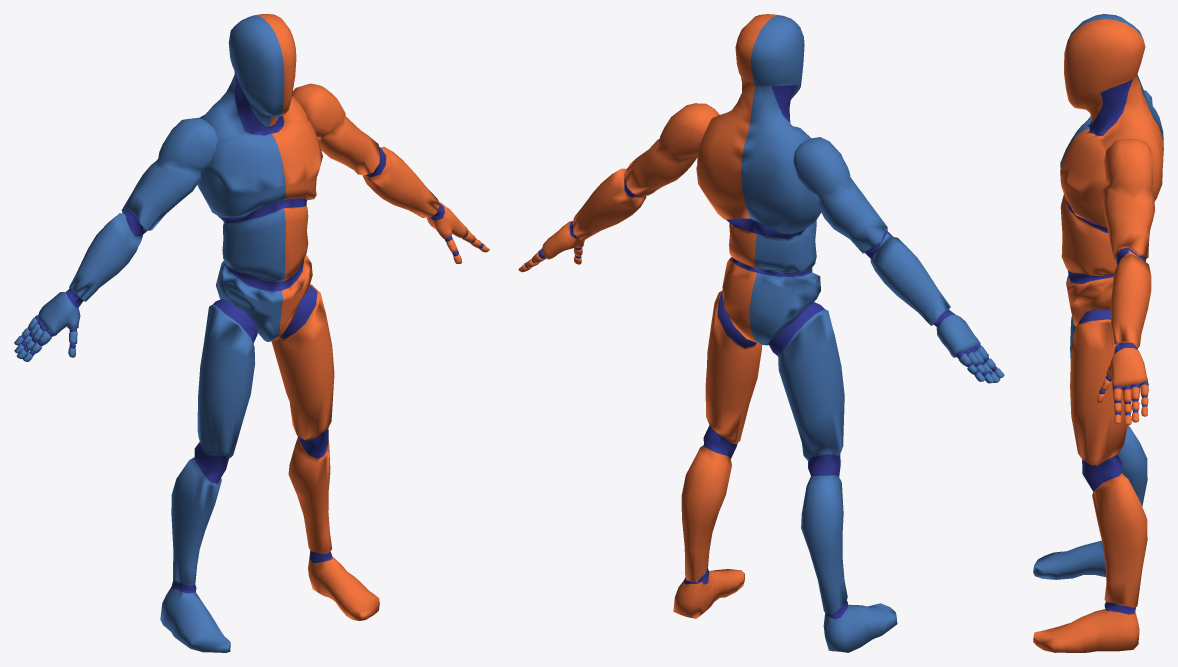
The model's file is model-human-a-pose.glb.
The picture shows the model from 3 angles, left to right: view 1: azimuth 30°, elevation 25°; view 2: azimuth 150°, elevation 25°; view 3: azimuth 270°, elevation 25°; orthographic projection. The views are drawn at different scales.
Parts seen in each view (by area): view 1: Mannequin; view 2: Mannequin; view 3: Mannequin.
Part boxes in pixels (x1,y1,x2,y2): Mannequin: (14, 14, 489, 652); Mannequin: (518, 14, 1004, 652); Mannequin: (1033, 14, 1163, 652).
Size of the model in its own units: 1.52 by 1.85 by 0.3696.
Materials: 1 (1 with a texture image).
